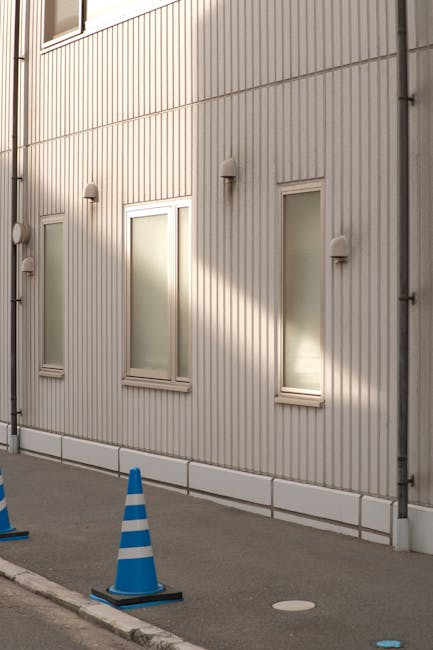traffic_cone: (89, 466, 184, 610), (0, 465, 29, 541)
